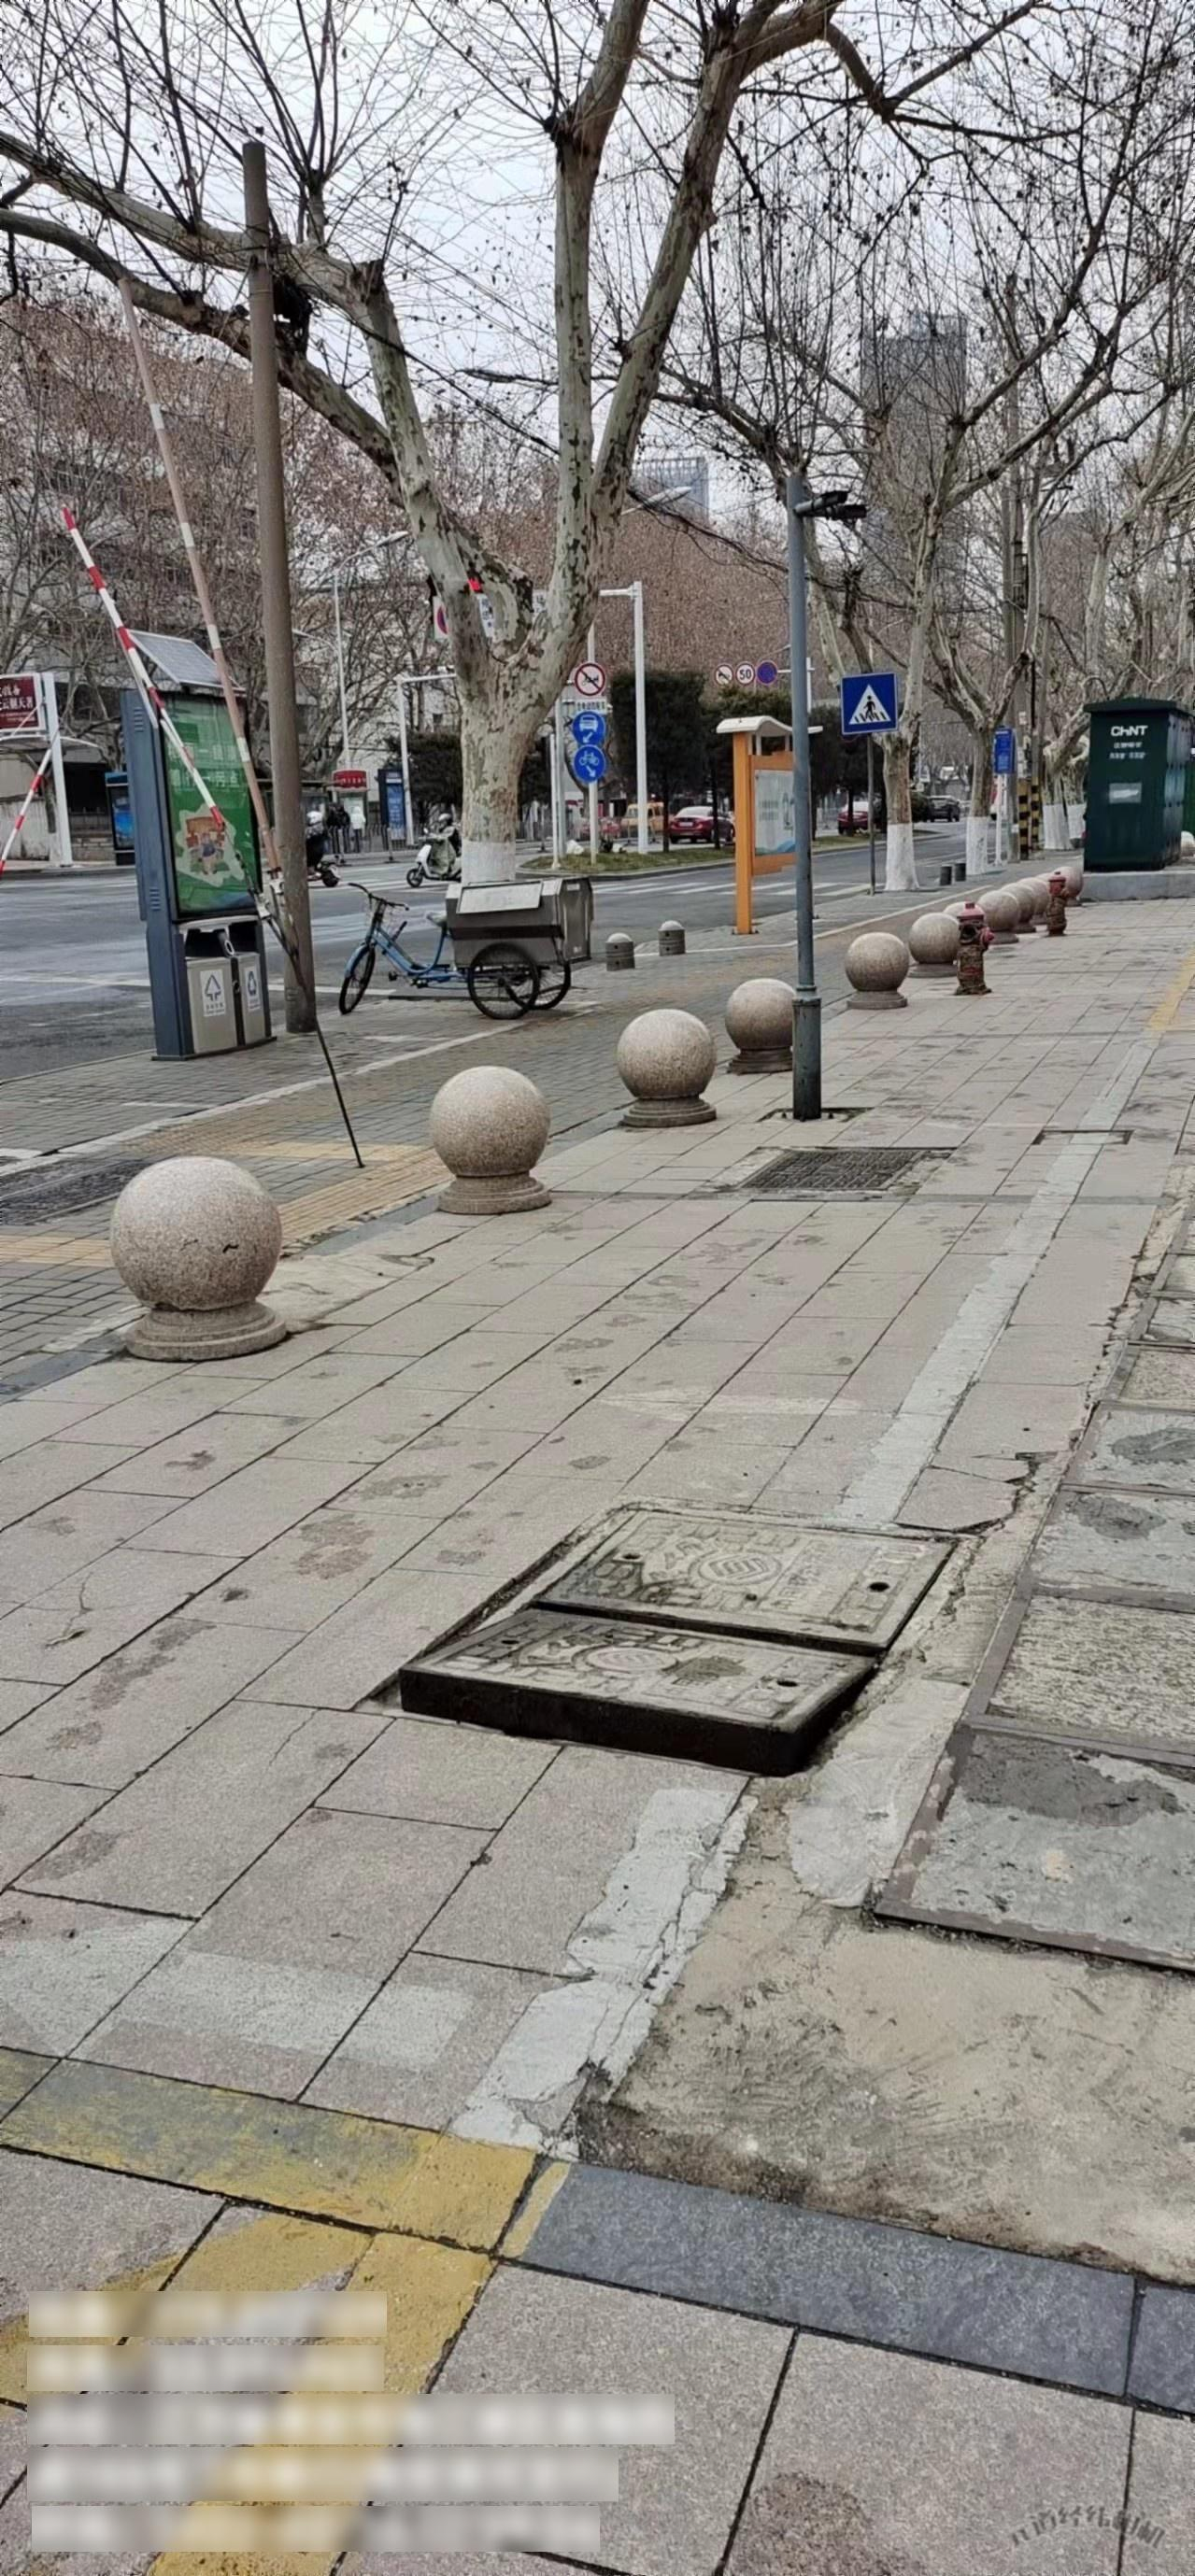wellcover: (422, 1497, 1055, 1856)
